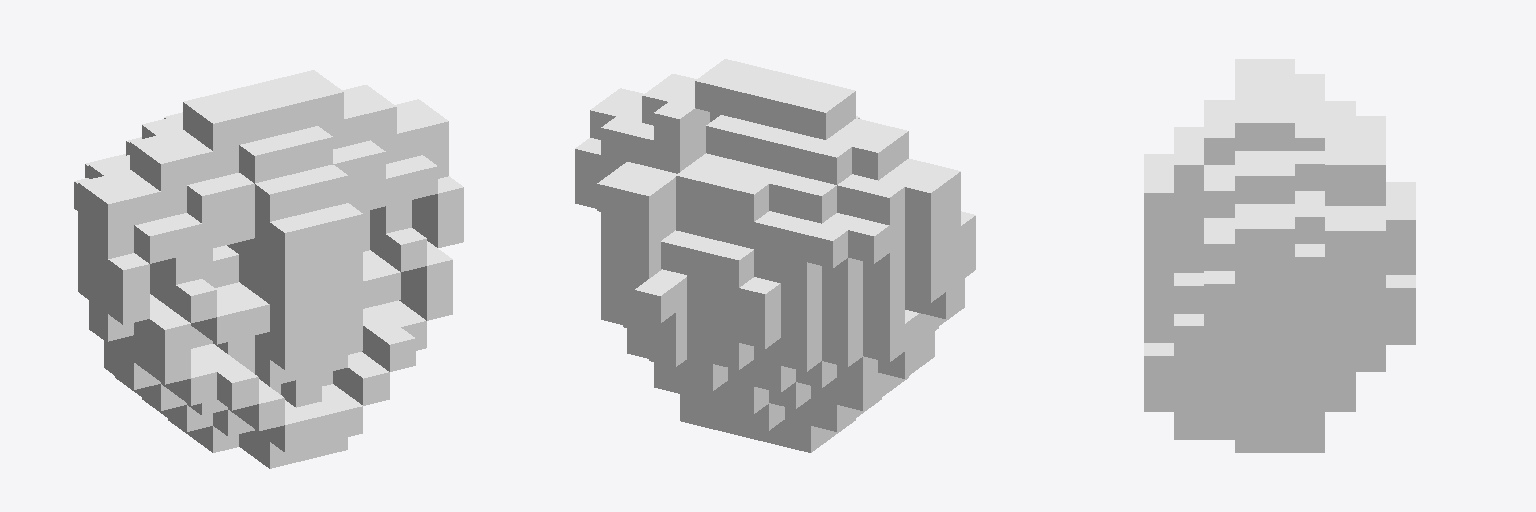
The model's file is cabeca-1.obj.
3 views of the same model, side by side, from view 1: azimuth 30°, elevation 25°; view 2: azimuth 150°, elevation 25°; view 3: azimuth 270°, elevation 25° (orthographic).
Visible parts, largest first — view 1: object 1; view 2: object 1; view 3: object 1.
Boxes of the visible parts, x1=… form: object 1: x1=74, y1=70, x2=463, y2=468; object 1: x1=575, y1=59, x2=975, y2=452; object 1: x1=1144, y1=59, x2=1415, y2=452.
Bounding box in the file's own units: 1.3 × 1.2 × 0.9.